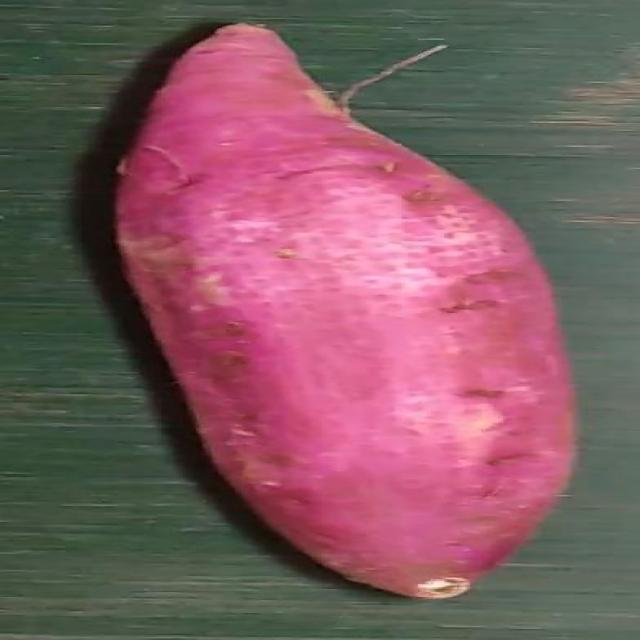Sweet Potato: (111, 23, 580, 602)
